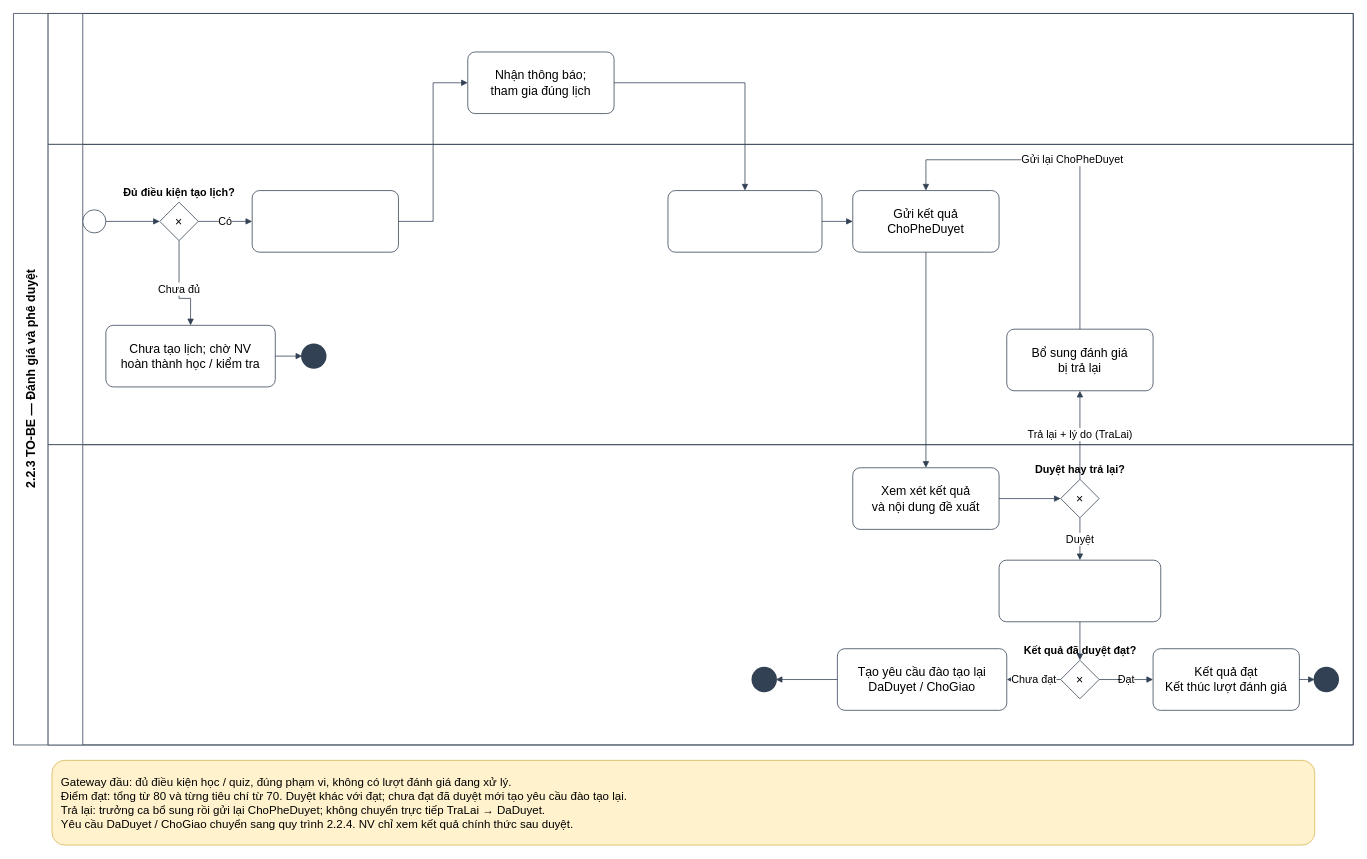
Some shapes in this 1367 by 859 pixel diagram are drawn without their labels. Here are the shapes that lost their labels. From the top down, the box of each, then its label:
(47, 13, 1353, 144): NHÂN VIÊN
(251, 190, 398, 252): Tạo lịch đánh giá Lưu ChoDanhGia và thông báo
(667, 190, 822, 252): Chấm 5 tiêu chí; nhận xét Chưa đạt: kèm đề xuất
(47, 144, 1353, 445): TRƯỞNG CA
(47, 444, 1353, 745): QUẢN LÝ CỬA HÀNG
(998, 559, 1161, 622): Phê duyệt: DaDuyet Thông báo kết quả cho NV
